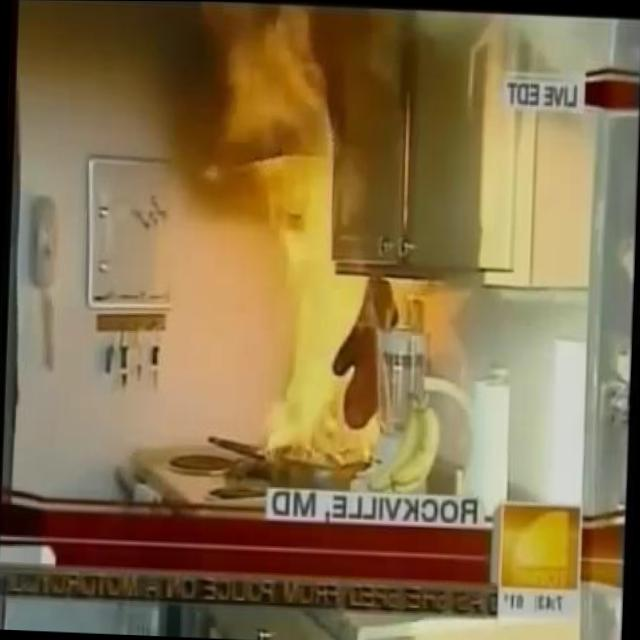fire: (191, 1, 400, 466)
